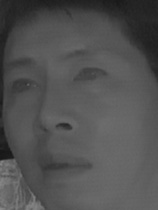eye: (67, 63, 108, 87), (8, 76, 42, 98)
mouth: (31, 149, 93, 184)
